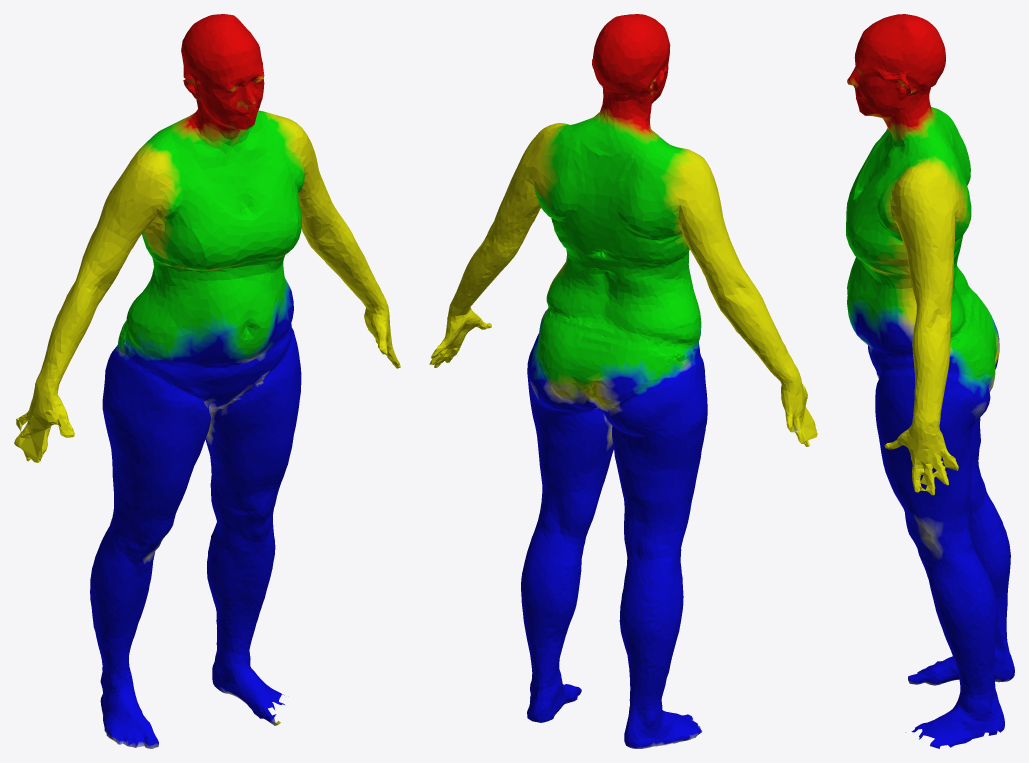
The picture shows the model from 3 angles, left to right: view 1: azimuth 30°, elevation 25°; view 2: azimuth 150°, elevation 25°; view 3: azimuth 270°, elevation 25°; orthographic projection. The views are drawn at different scales.
Parts seen in each view (by area): view 1: 20.obj; view 2: 20.obj; view 3: 20.obj.
Part boxes in pixels (x1=…): 20.obj: x1=14, y1=14, x2=400, y2=748; 20.obj: x1=429, y1=14, x2=817, y2=748; 20.obj: x1=846, y1=14, x2=1014, y2=748.
Bounding box in the file's own units: 1.08 × 1.95 × 0.4265.
